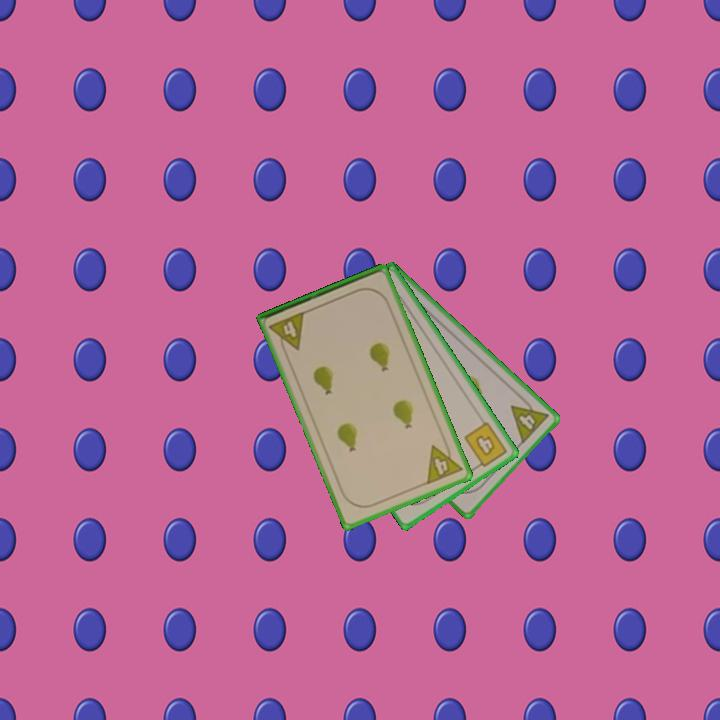4b: (461, 418, 510, 472)
4p: (507, 392, 552, 447), (423, 437, 465, 487), (266, 308, 308, 357)
